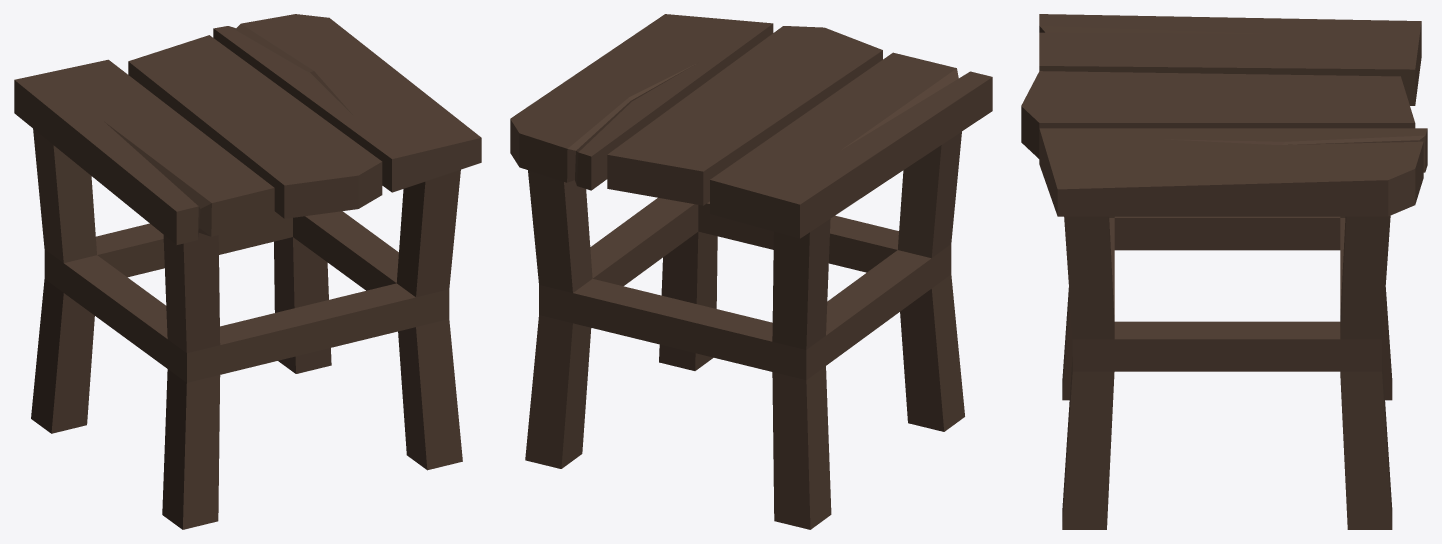
The model's file is stool.fbx.
3 views of the same model, side by side, from view 1: azimuth 30°, elevation 25°; view 2: azimuth 150°, elevation 25°; view 3: azimuth 270°, elevation 25° (orthographic). The views are drawn at different scales.
Visible parts, largest first — view 1: stool; view 2: stool; view 3: stool.
Part boxes in pixels (x1,y1,x2,y2): stool: (14, 14, 481, 529); stool: (510, 14, 992, 529); stool: (1021, 14, 1427, 529).
Bounding box in the file's own units: 69.14 × 69.59 × 71.5.
